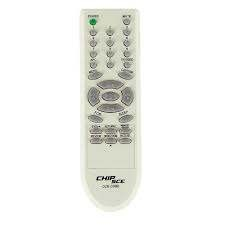remote control: (84, 6, 140, 204)
